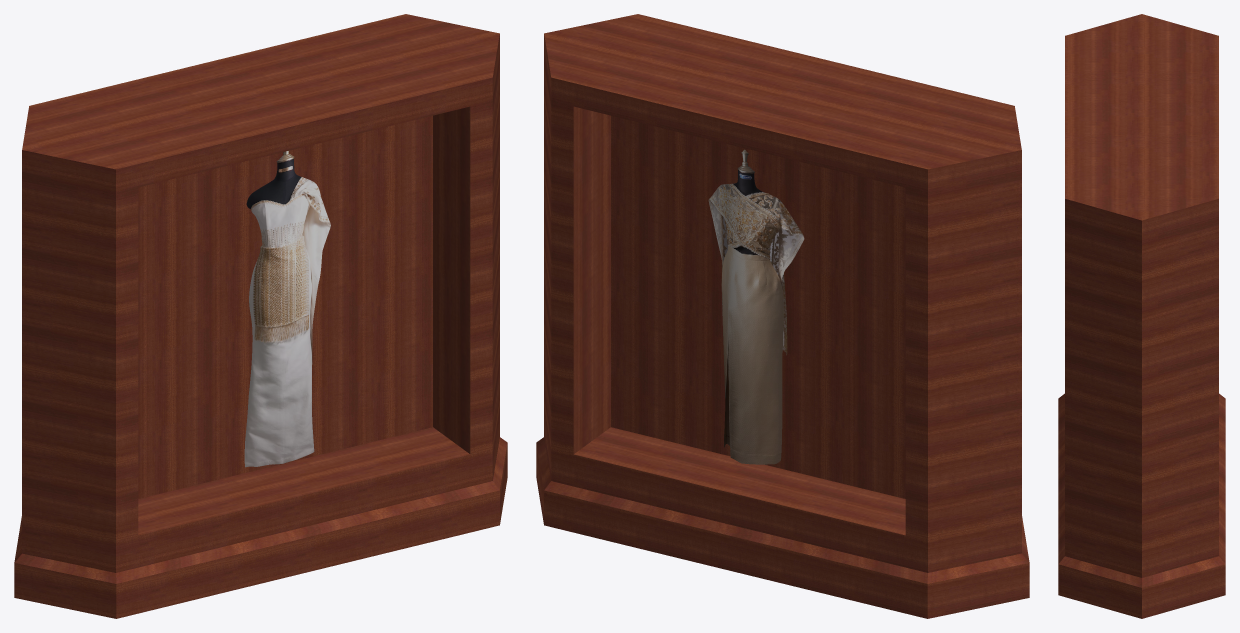
File: Board.fbx
The picture shows the model from 3 angles, left to right: view 1: azimuth 30°, elevation 25°; view 2: azimuth 150°, elevation 25°; view 3: azimuth 270°, elevation 25°; orthographic projection. The views are drawn at different scales.
Visible parts, largest first — view 1: board; view 2: board; view 3: board.
Boxes of the visible parts, x1,y1,x2,y2 form: board: [14, 14, 507, 618]; board: [536, 14, 1029, 618]; board: [1058, 14, 1225, 618].
Size of the model in its own units: 198 by 171 by 65.63.
4 materials, 4 textured.
